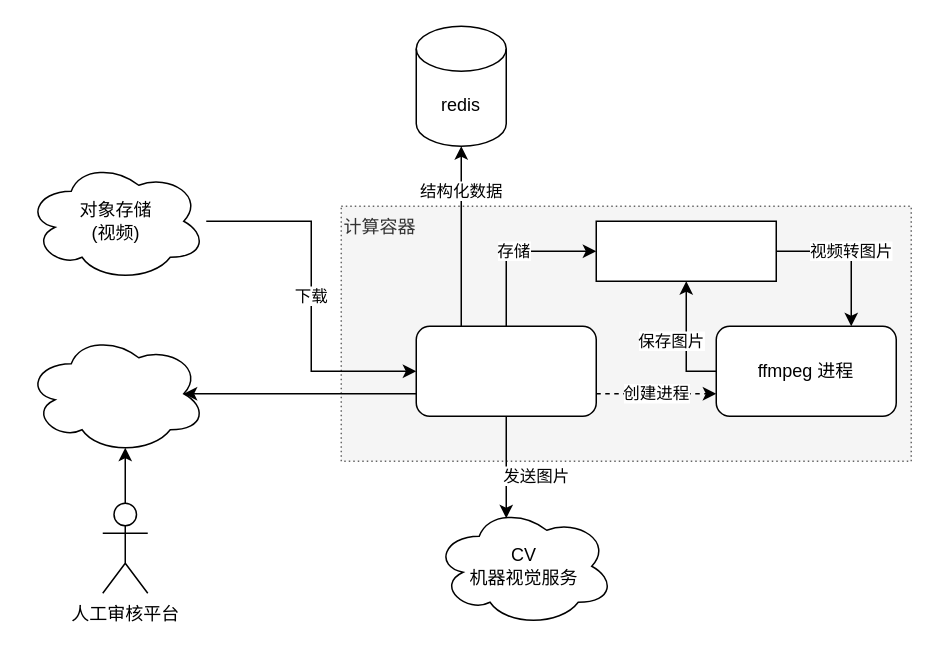
Image size: 938x653. Some labels were removed from this diagram. The centre of each missing label's shape, as x and y in pixels:
golang 进程: the point at 505,370
memfs: the point at 685,250
对象存储 （图片）: the point at 115,393
